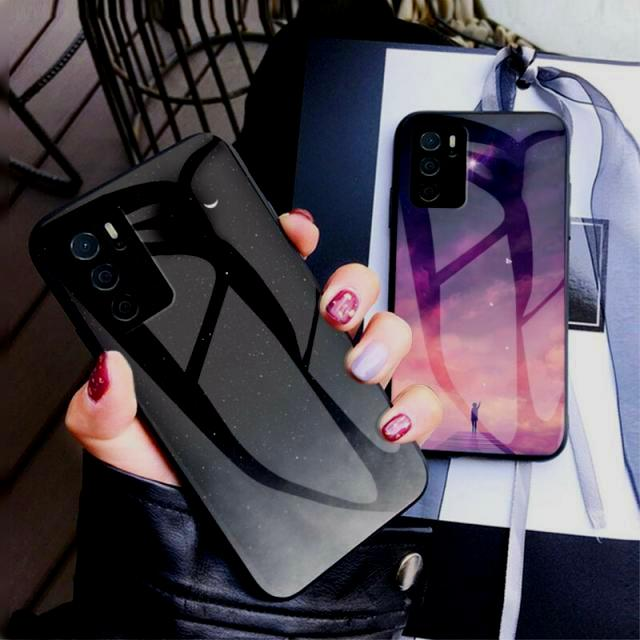lens: (64, 210, 173, 321), (408, 119, 468, 210)
phone: (33, 130, 429, 595), (395, 103, 570, 461)
